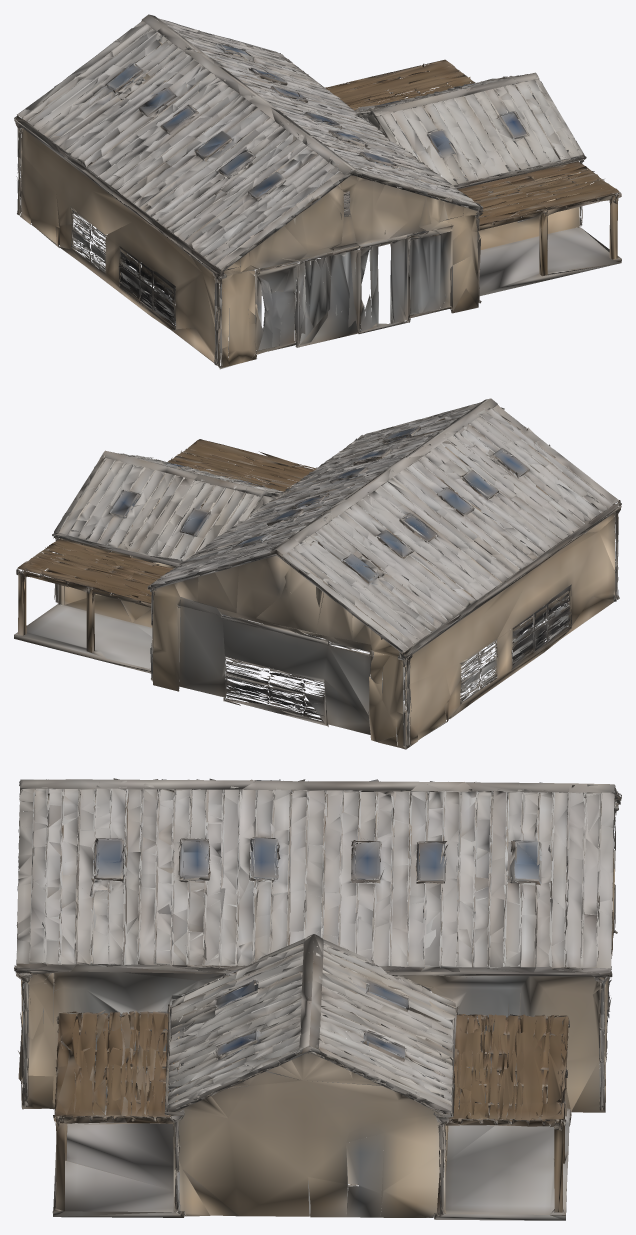
File: hangarhome.glb
3 views of the same model, one above another, from view 1: azimuth 30°, elevation 25°; view 2: azimuth 150°, elevation 25°; view 3: azimuth 270°, elevation 25° (orthographic). The views are drawn at different scales.
Visible parts, largest first — view 1: LO.001; view 2: LO.001; view 3: LO.001.
Part boxes in pixels (<box>): LO.001: <box>14,14,621,369</box>; LO.001: <box>14,398,621,749</box>; LO.001: <box>14,778,621,1220</box>.
Size of the model in its own units: 1.91 by 0.7444 by 1.68.
1 material, 1 textured.
